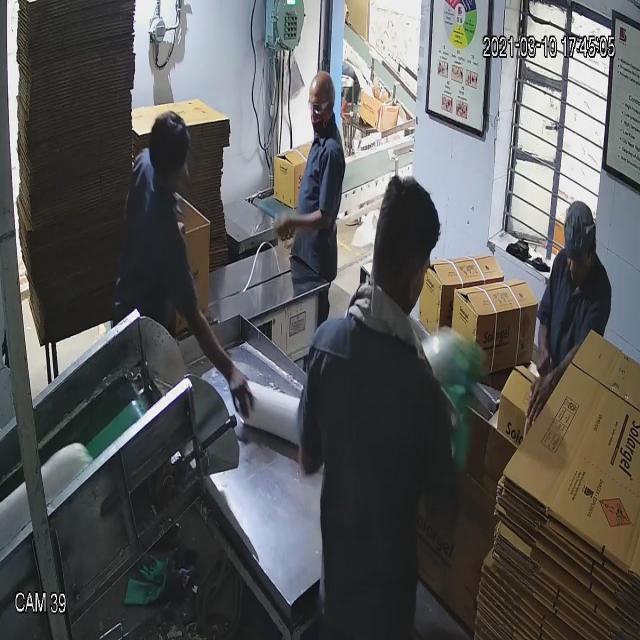No_Gloves: (78, 88, 297, 366)
